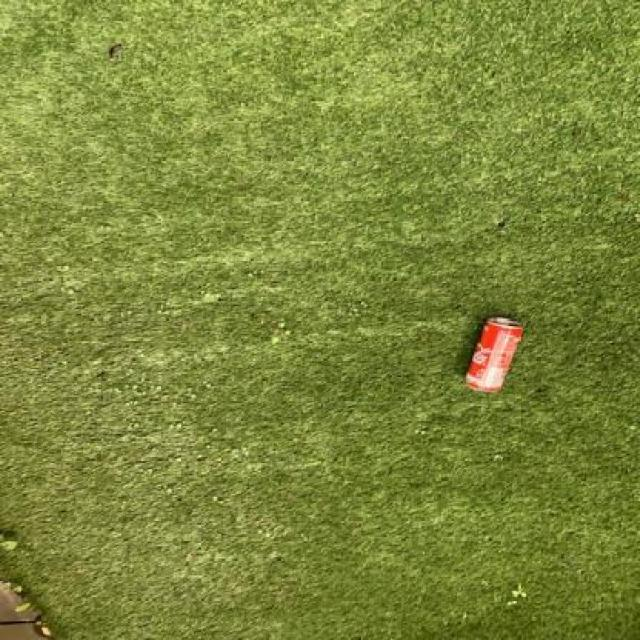trash: (461, 317, 528, 397)
